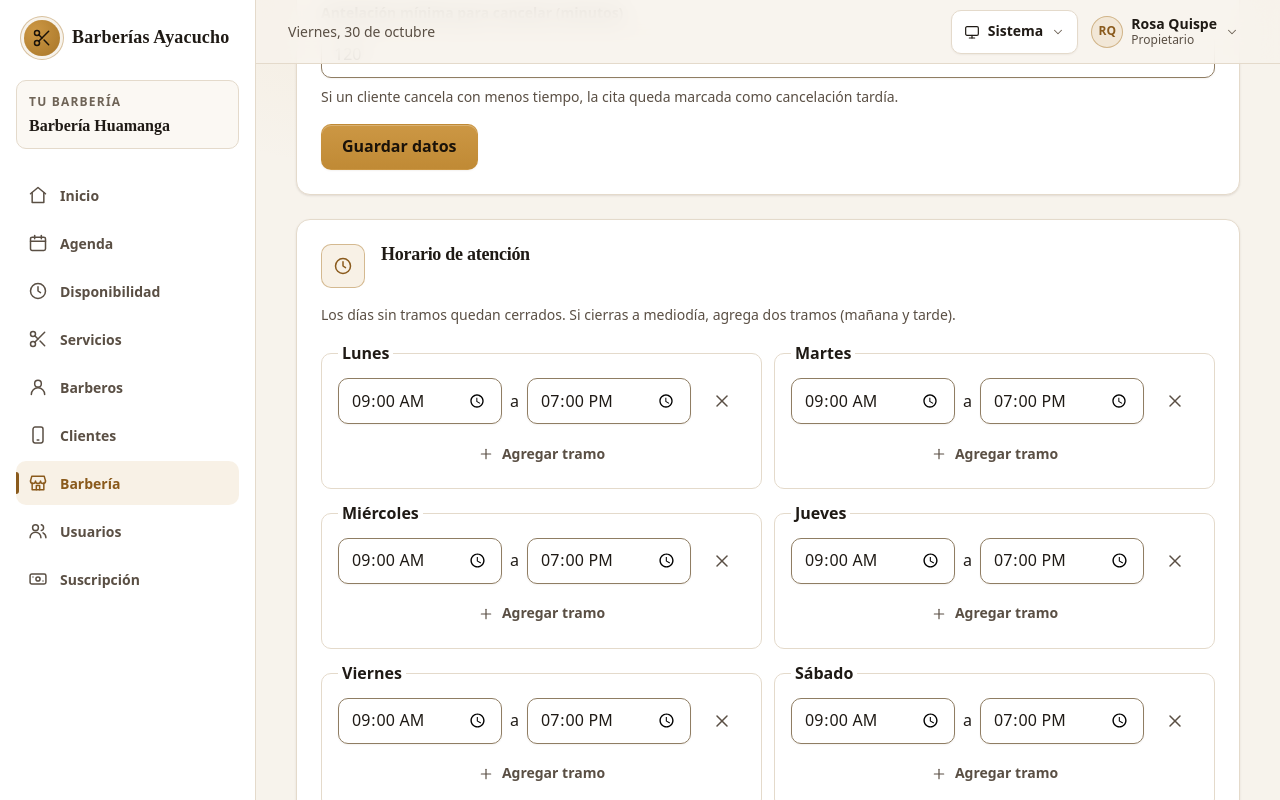
Barbería (/app/barberia) › si el horario deja citas fuera, muestra las citas afectadas y guarda solo al confirmar
(page scrolled)
Replace the text in the time field named "Lunes, cierre del tramo 1" with "13:00" at (609, 401), box [527,378,691,424]
(page scrolled)
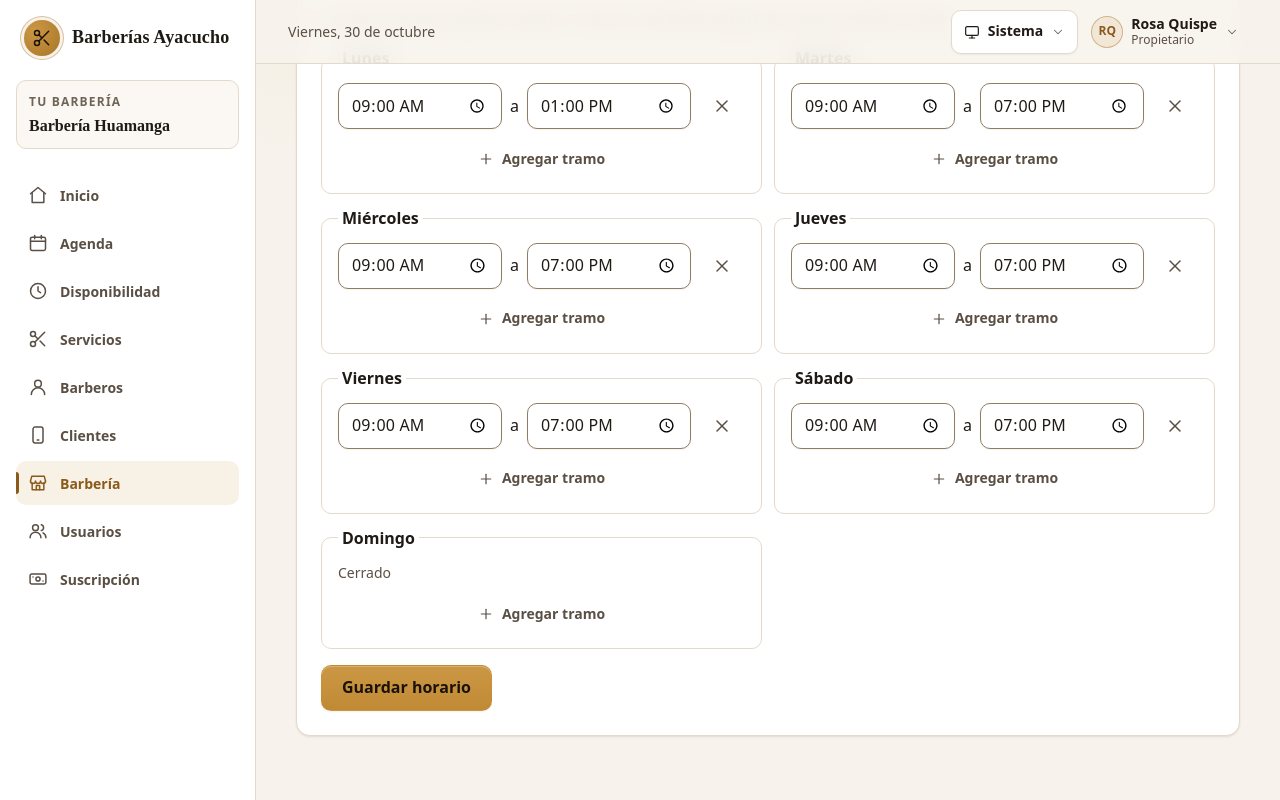
Click the button "Guardar horario".
click(406, 688)  # box [321,665,492,711]
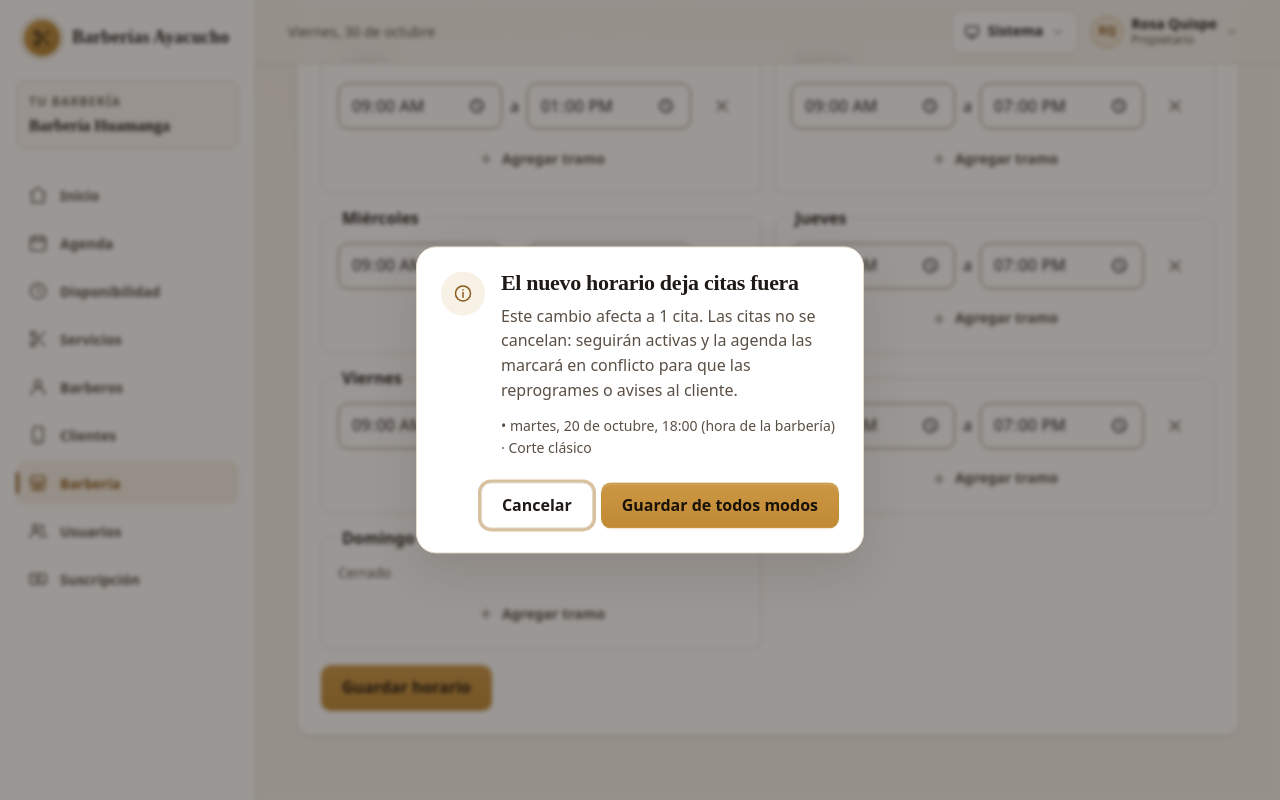
Expected: the dialog shows "1 cita", [659,305,699,327]
Expected: the dialog shows "Corte clásico", [508,438,592,457]
Click the button "Guardar de todos modos".
click(720, 506)  # box [601,483,839,529]
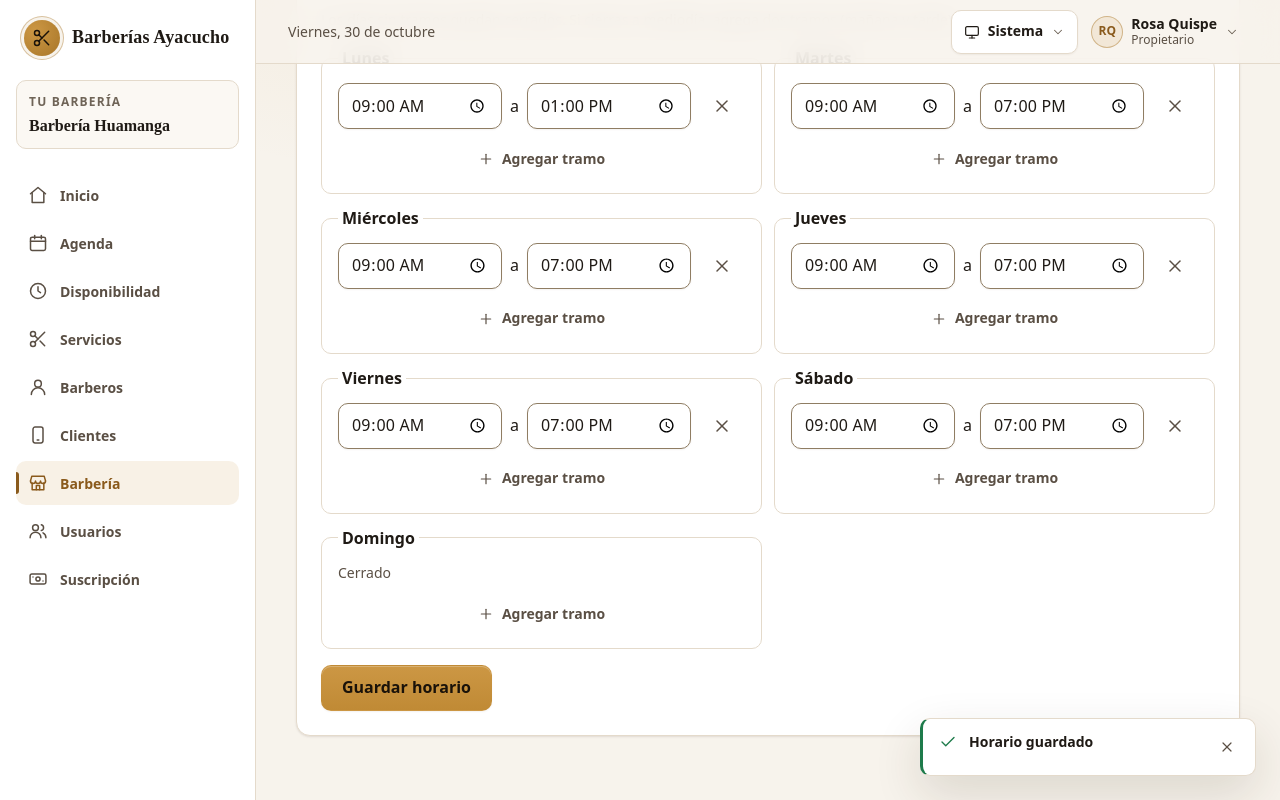
Expected: the text "Horario guardado" is shown, [969,732,1093,751]
